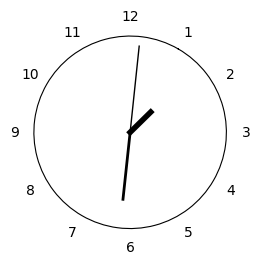12: (122, 9, 139, 23)
circle: (35, 36, 227, 229)
hours: (128, 109, 154, 134)
minutes: (122, 135, 132, 201)
seconds: (130, 45, 140, 127)
